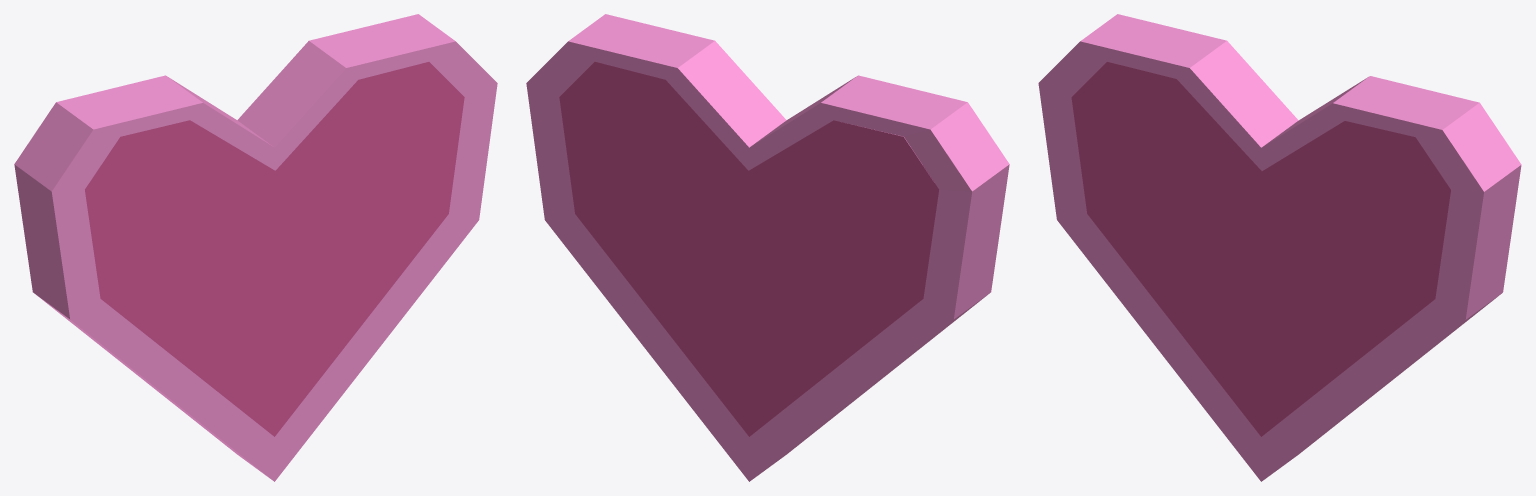
The model's file is Heart.fbx.
The picture shows the model from 3 angles, left to right: view 1: azimuth 30°, elevation 25°; view 2: azimuth 150°, elevation 25°; view 3: azimuth 330°, elevation 25°; orthographic projection.
Parts seen in each view (by area): view 1: Heart; view 2: Heart; view 3: Heart.
Boxes of the visible parts, x1,y1,x2,y2 form: Heart: (14, 14, 497, 481); Heart: (526, 14, 1009, 481); Heart: (1038, 14, 1521, 481).
Bounding box in the file's own units: 206 × 30.19 × 175.
